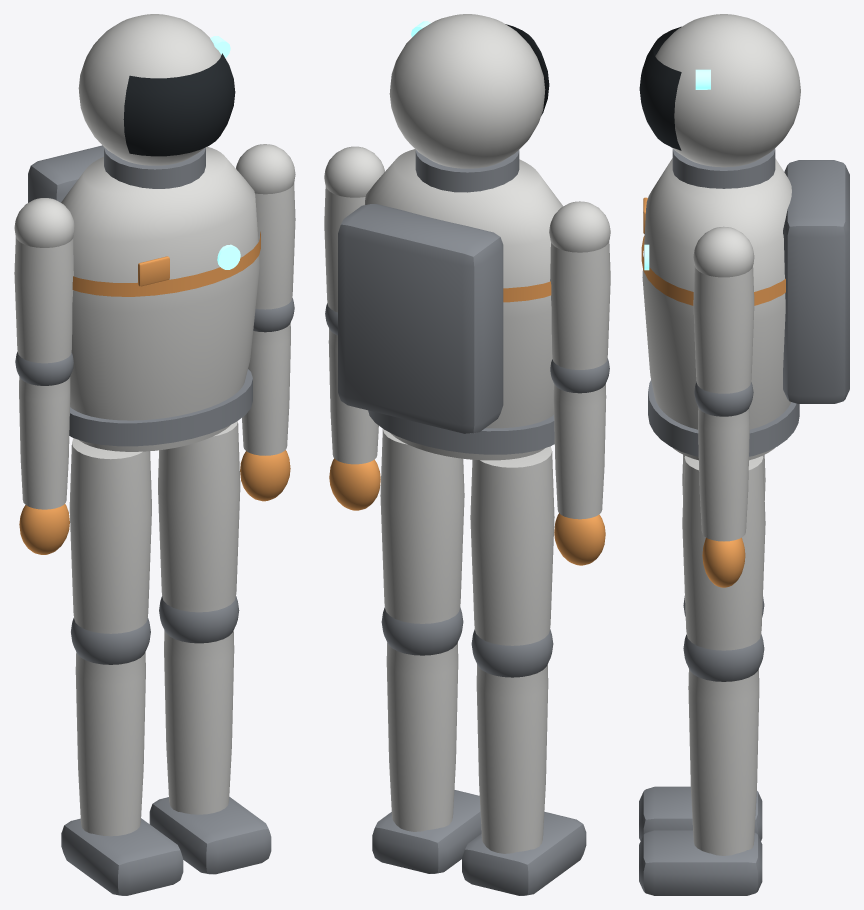
Rendered from crew.glb.
The picture shows the model from 3 angles, left to right: view 1: azimuth 30°, elevation 25°; view 2: azimuth 150°, elevation 25°; view 3: azimuth 270°, elevation 25°; orthographic projection.
Visible parts, largest first — view 1: C_torso, C_legL, C_legR, C_head, C_armL, C_armR; view 2: C_torso, C_legL, C_legR, C_head, C_armL, C_armR; view 3: C_torso, C_legR, C_head, C_armR, C_legL.
Boxes of the visible parts, x1,y1,x2,y2 form: C_torso: (28,145,260,451); C_legL: (61,438,183,895); C_legR: (149,421,271,874); C_head: (78,14,235,188); C_armL: (14,198,74,554); C_armR: (236,144,295,501); C_torso: (338,149,563,460); C_legL: (462,446,586,895); C_legR: (372,429,481,873); C_head: (389,14,549,192); C_armL: (549,201,610,565); C_armR: (324,146,384,510); C_torso: (641,158,849,460); C_legR: (639,456,765,895); C_head: (639,14,800,188); C_armR: (693,226,754,587); C_legL: (639,454,765,840).
Size of the model in its own units: 0.6188 by 1.8 by 0.41.
